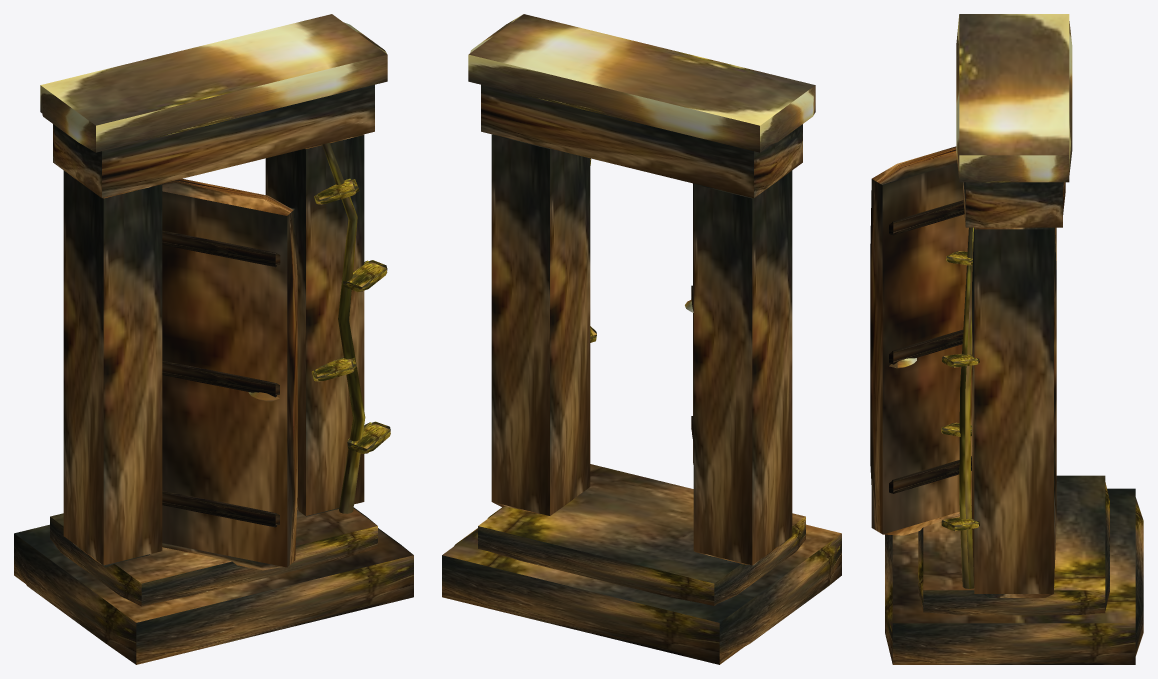
Rendered from door-of-hope.glb.
The picture shows the model from 3 angles, left to right: view 1: azimuth 30°, elevation 25°; view 2: azimuth 150°, elevation 25°; view 3: azimuth 270°, elevation 25°; orthographic projection.
Visible parts, largest first — view 1: HeroRelicMonument; view 2: HeroRelicMonument; view 3: HeroRelicMonument.
Part boxes in pixels (x1,y1,x2,y2): HeroRelicMonument: (14,14,413,664); HeroRelicMonument: (442,14,841,664); HeroRelicMonument: (870,14,1143,664).
Size of the model in its own units: 1.58 by 2.55 by 1.23.
1 material, 1 textured.
